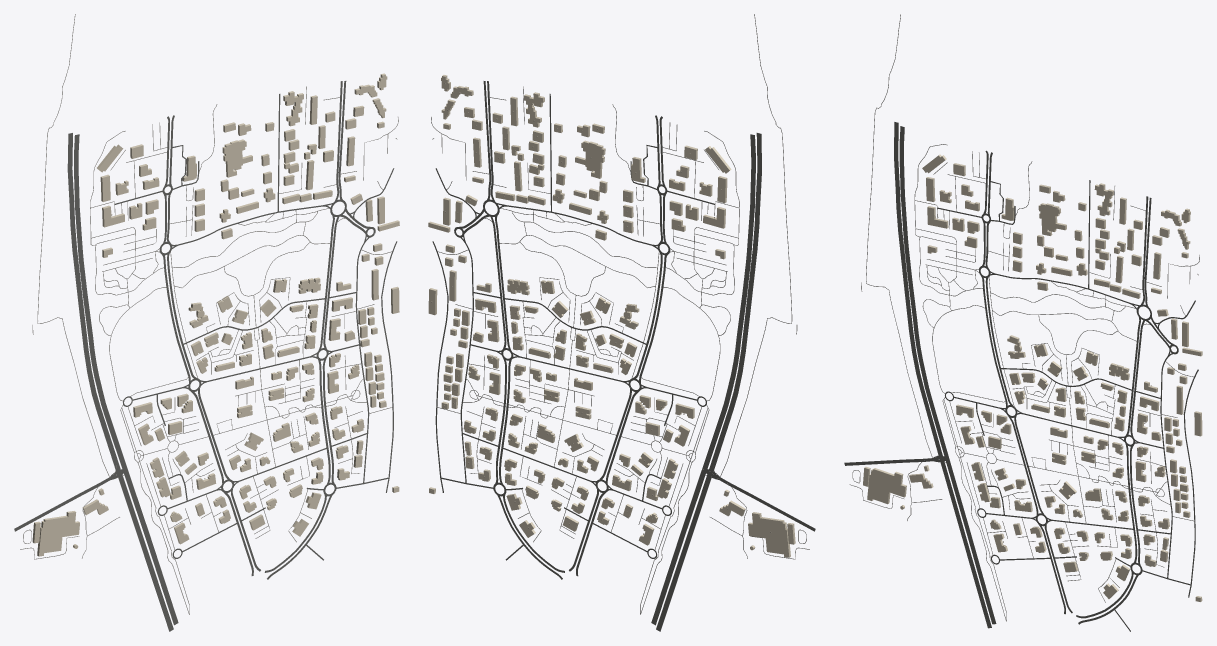
File: historic-palestine-08_33_3496_3275.glb
The picture shows the model from 3 angles, left to right: view 1: azimuth 30°, elevation 25°; view 2: azimuth 150°, elevation 25°; view 3: azimuth 330°, elevation 25°; orthographic projection. The views are drawn at different scales.
Parts seen in each view (by area): view 1: Road כביש חיפה רעננה.005, Road כביש חיפה רעננה, Building_.138, Road כביש חיפה רעננה.003, Road כביש חיפה רעננה.006, Building_.032; view 2: Road כביש חיפה רעננה.005, Road כביש חיפה רעננה, Building_.138, Road כביש חיפה רעננה.003, Road כביש חיפה רעננה.006, Building_.032; view 3: Road כביש חיפה רעננה.005, Road כביש חיפה רעננה, Building_.138, Road כביש חיפה רעננה.006, Road כביש חיפה רעננה.003, Building_.032.
Part boxes in pixels (left/top/right/bottom): Road כביש חיפה רעננה.005: left=74, top=134, right=127, bottom=470; Road כביש חיפה רעננה: left=69, top=205, right=118, bottom=465; Building_.138: left=37, top=511, right=79, bottom=556; Road כביש חיפה רעננה.003: left=118, top=474, right=173, bottom=631; Road כביש חיפה רעננה.006: left=123, top=469, right=178, bottom=625; Building_.032: left=222, top=139, right=252, bottom=177; Road כביש חיפה רעננה.005: left=702, top=134, right=755, bottom=470; Road כביש חיפה רעננה: left=711, top=205, right=759, bottom=465; Building_.138: left=748, top=512, right=790, bottom=557; Road כביש חיפה רעננה.003: left=656, top=474, right=711, bottom=631; Road כביש חיפה רעננה.006: left=651, top=469, right=706, bottom=625; Building_.032: left=575, top=140, right=605, bottom=178; Road כביש חיפה רעננה.005: left=899, top=126, right=948, bottom=458; Road כביש חיפה רעננה: left=895, top=190, right=940, bottom=450; Building_.138: left=867, top=468, right=906, bottom=504; Road כביש חיפה רעננה.006: left=946, top=458, right=996, bottom=624; Road כביש חיפה רעננה.003: left=940, top=461, right=991, bottom=628; Building_.032: left=1038, top=203, right=1066, bottom=235.
Bounding box in the file's own units: 978 × 1553 × 8.7.
